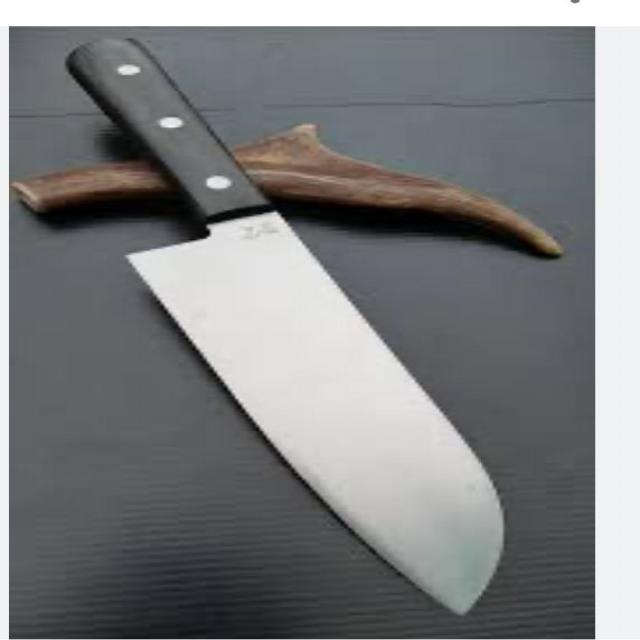Knife: (72, 48, 518, 619)
